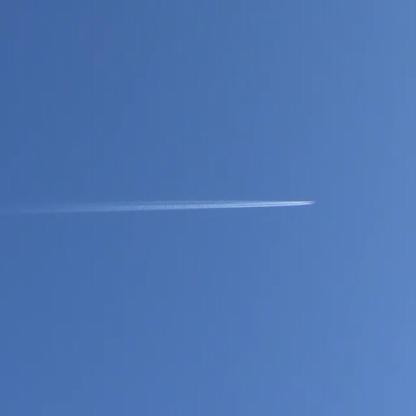CIV_Plane: (308, 198, 318, 210)
